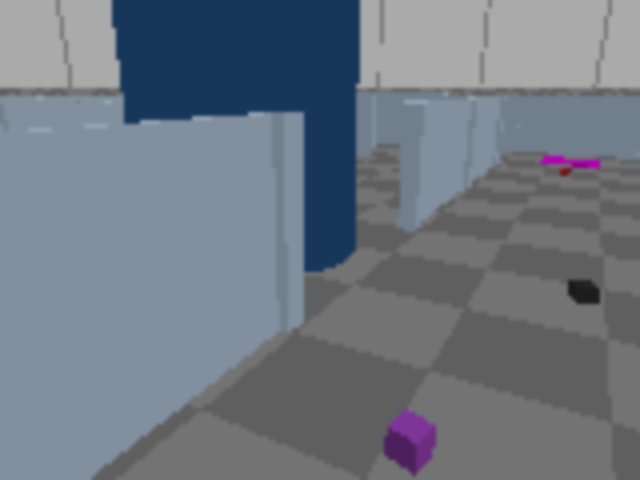goal_zone: (541, 157, 599, 168)
puck: (385, 410, 436, 475), (567, 281, 601, 304)
